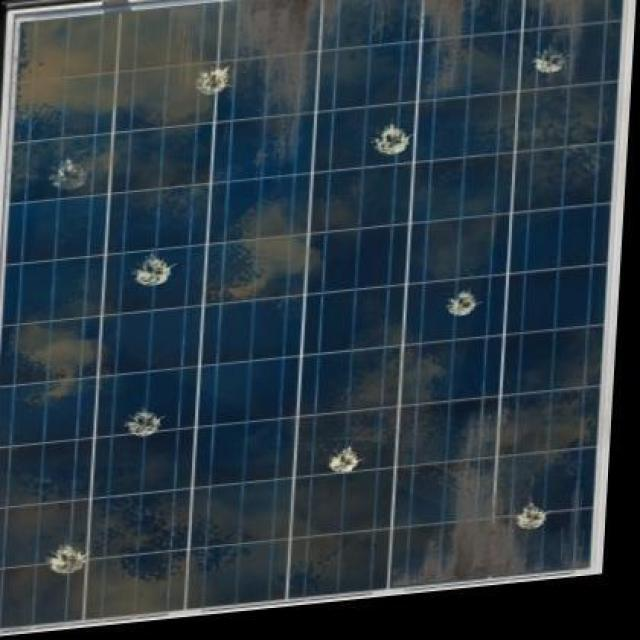soiled: (3, 3, 634, 623)
